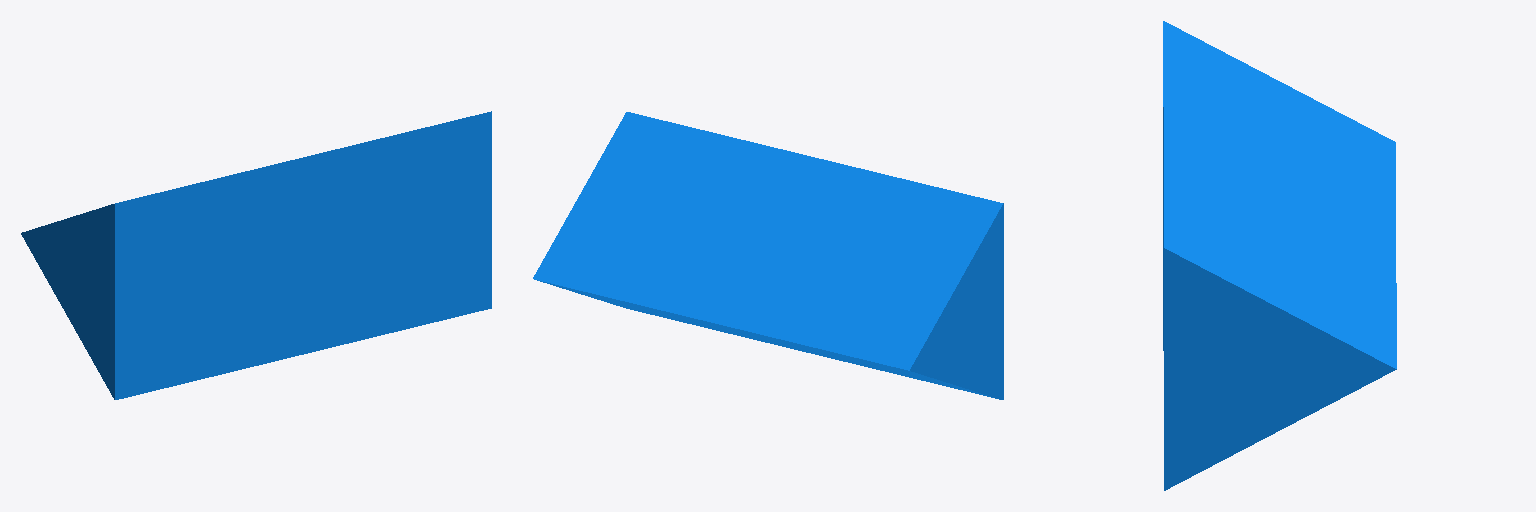
The robot description file, URDF, robot "triangle.urdf":
<?xml version="1.0" ?>
<robot name="triangle.urdf">
  <link name="baseLink">
    <contact>
    	<friction_anchor/>
    	   <lateral_friction value="0.5"/>
            <rolling_friction value="0.005"/>
            <spinning_friction value="0.005"/>
    </contact>
    <inertial>
      <origin rpy="0 0 0" xyz="0 0 0"/>
       <mass value="0.5"/>
       <inertia ixx="0.01" ixy="0" ixz="0" iyy="0.01" iyz="0" izz="0.01"/>
    </inertial>
    <visual>
      <origin rpy="0 0 -1.57" xyz="0 0 0"/>
      <geometry>
				<mesh filename="triangle.STL" scale="0.001 0.01 0.001"/>
      </geometry>
       <material name="white">
        <color rgba="0.1 0.6 1 1"/>
      </material>
    </visual>
    <collision>
      <origin rpy="0 0 -1.57" xyz="0 0 0 "/>
      <geometry>
	 	<mesh filename="triangle.STL" scale="0.001 0.01 0.001"/>
      </geometry>
    </collision>
  </link>
</robot>

--- What the picture shows (computed from the rendered views, not written in the file) ---
3 views of the same robot in one strip: view 1: azimuth 30°, elevation 25°; view 2: azimuth 150°, elevation 25°; view 3: azimuth 270°, elevation 25° (orthographic).
Robot: triangle.urdf — 1 links, 0 joints (none); root link baseLink; default pose: all joints at 0.
Links seen in each view (by area): view 1: baseLink; view 2: baseLink; view 3: baseLink.
Link boxes in pixels (<box>): baseLink: <box>21,111,491,399</box>; baseLink: <box>533,112,1003,399</box>; baseLink: <box>1163,21,1396,490</box>.
Bounding box of the posed robot: 0.01 × 0.0043 × 0.005 m (x, y, z).
Meshes: 1 distinct files referenced, 1 mesh visuals loaded (1 binary STL).